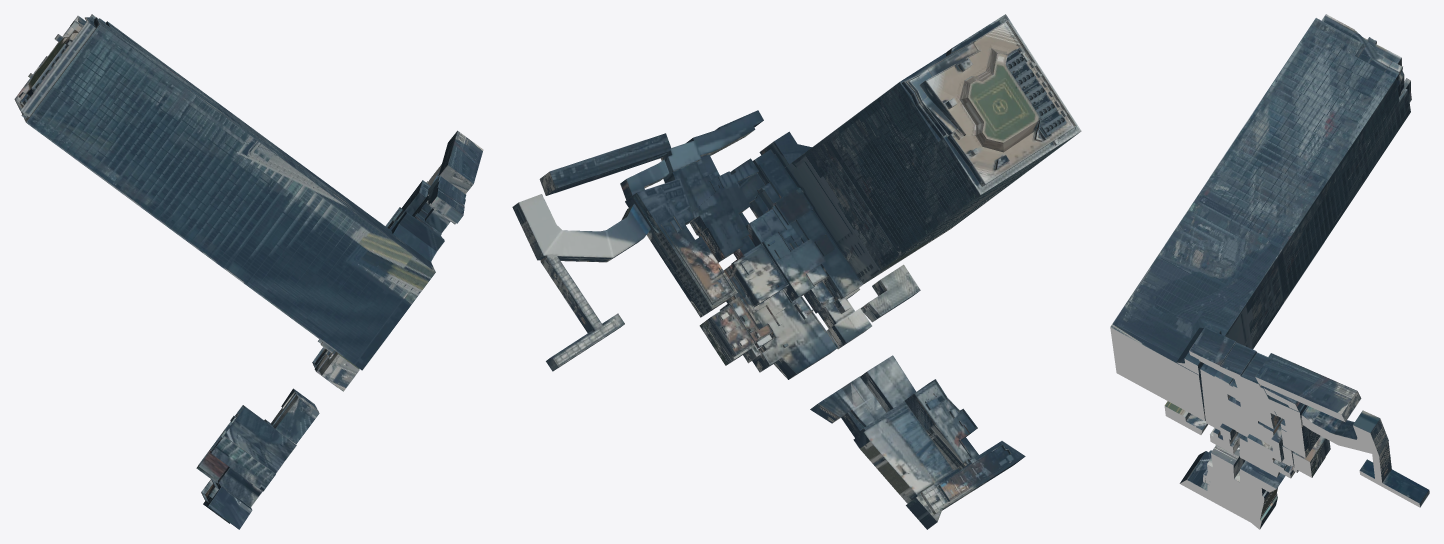
File: l2_data505.glb
3 views of the same model, side by side, from view 1: azimuth 30°, elevation 25°; view 2: azimuth 150°, elevation 25°; view 3: azimuth 270°, elevation 25° (orthographic). The views are drawn at different scales.
Bounding box in the file's own units: 291 × 293 × 181.
Materials: 2 (1 with a texture image).
